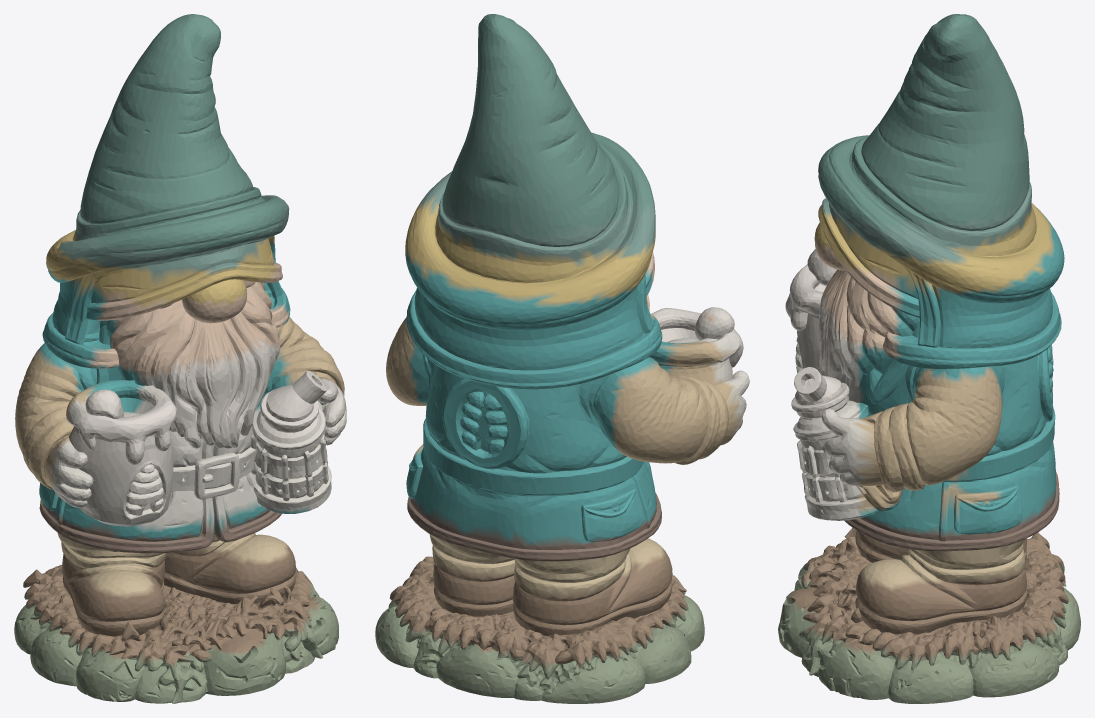
The model's file is beekeeper.glb.
The picture shows the model from 3 angles, left to right: view 1: azimuth 30°, elevation 25°; view 2: azimuth 150°, elevation 25°; view 3: azimuth 270°, elevation 25°; orthographic projection. The views are drawn at different scales.
Visible parts, largest first — view 1: Beekeeper_Gnome; view 2: Beekeeper_Gnome; view 3: Beekeeper_Gnome.
Boxes of the visible parts, bbox=[...] form: Beekeeper_Gnome: bbox=[14, 14, 346, 703]; Beekeeper_Gnome: bbox=[375, 14, 749, 703]; Beekeeper_Gnome: bbox=[778, 14, 1080, 703].
Size of the model in its own units: 0.6219 by 1.16 by 0.5043.
